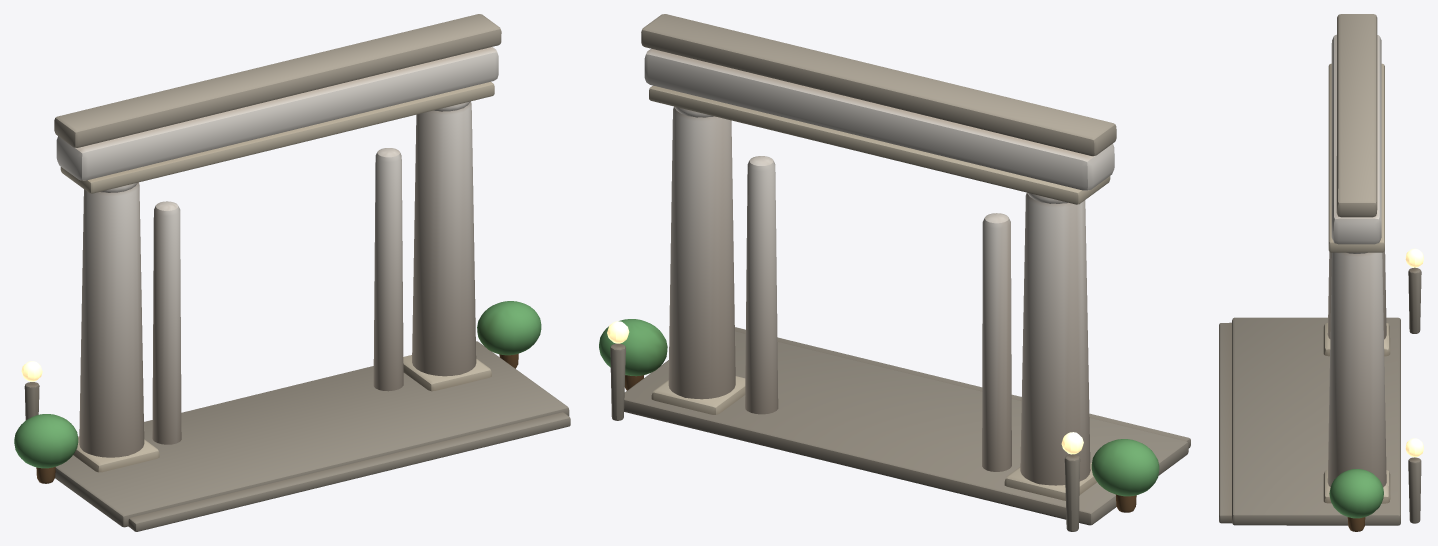
3 renders of one model, left to right at view 1: azimuth 30°, elevation 25°; view 2: azimuth 150°, elevation 25°; view 3: azimuth 270°, elevation 25°, orthographic. The views are drawn at different scales.
Parts seen in each view (by area): view 1: gate_57acdf02; view 2: gate_57acdf02; view 3: gate_57acdf02.
Boxes of the visible parts, box(x1,y1,x2,y2) form: gate_57acdf02: box(14, 14, 570, 531); gate_57acdf02: box(599, 14, 1190, 531); gate_57acdf02: box(1219, 14, 1423, 531).
Bounding box in the file's own units: 6.77 × 4.39 × 2.54.
